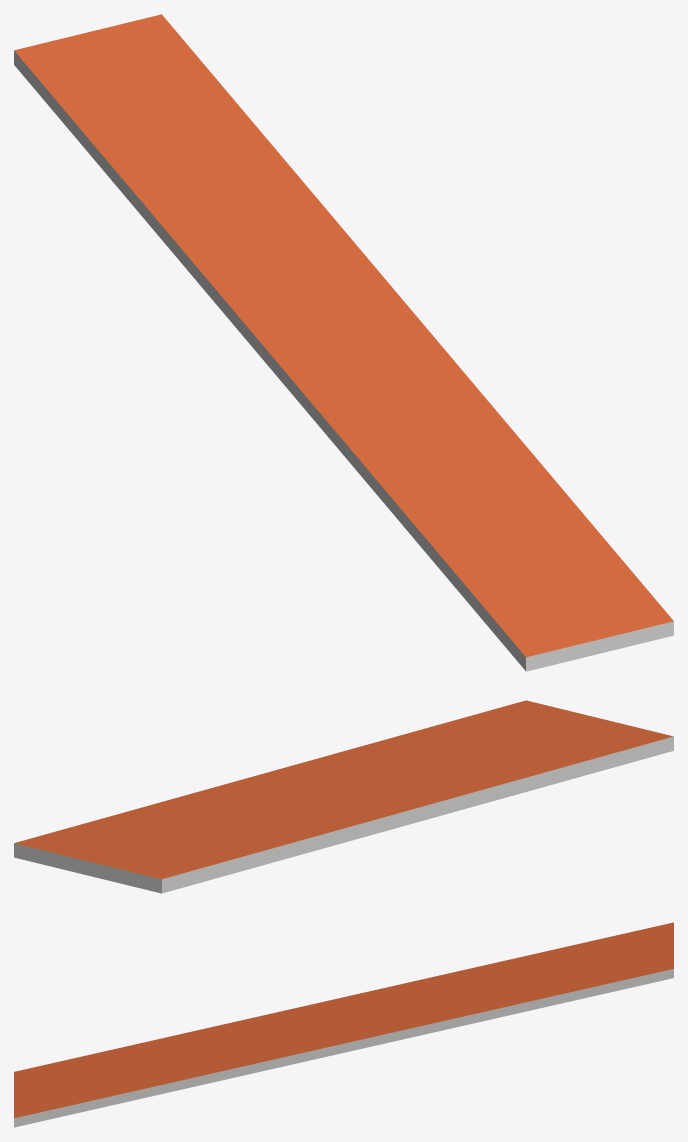
Rendered from telhado_meia_agua_v6_i25_1m.glb.
3 views of the same model, one above another, from view 1: azimuth 30°, elevation 25°; view 2: azimuth 150°, elevation 25°; view 3: azimuth 270°, elevation 25° (orthographic). The views are drawn at different scales.
Parts seen in each view (by area): view 1: telhado_meia_agua_v6_i25_1m; view 2: telhado_meia_agua_v6_i25_1m; view 3: telhado_meia_agua_v6_i25_1m.
Boxes of the visible parts, x1,y1,x2,y2 form: telhado_meia_agua_v6_i25_1m: (14,14,673,671); telhado_meia_agua_v6_i25_1m: (14,700,673,893); telhado_meia_agua_v6_i25_1m: (14,922,673,1127).
Size of the model in its own units: 1 by 1.59 by 6.
